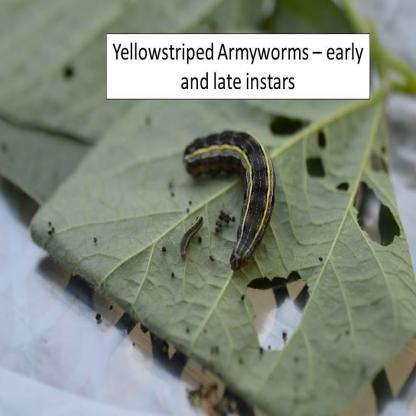armyworm: (182, 128, 278, 270), (180, 210, 208, 274)
